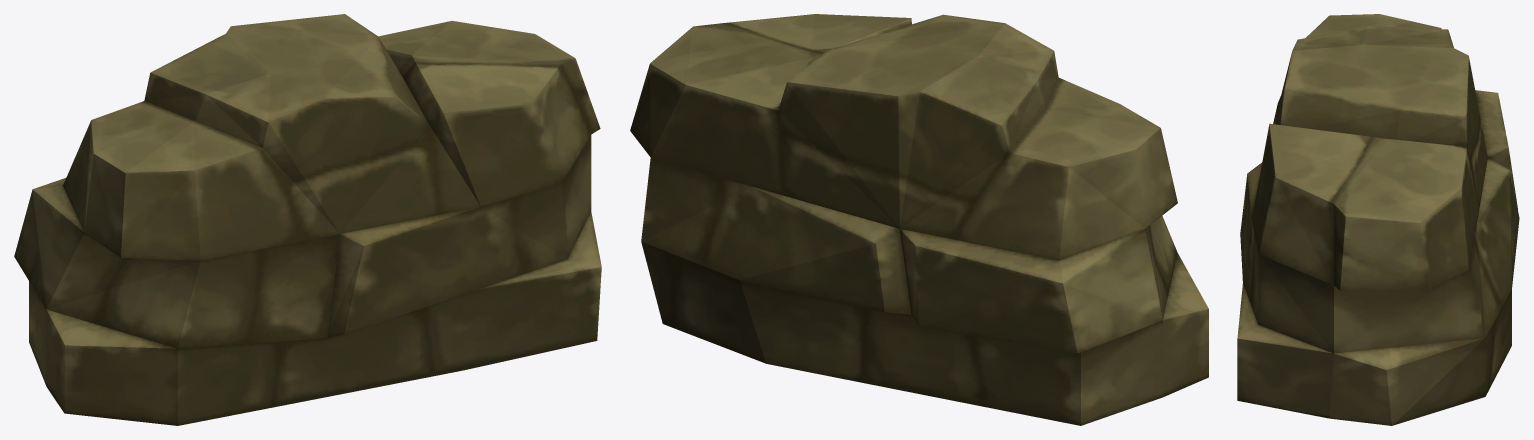
Rendered from rockwall_straight_06.fbx.
3 renders of one model, left to right at view 1: azimuth 30°, elevation 25°; view 2: azimuth 150°, elevation 25°; view 3: azimuth 270°, elevation 25°, orthographic. The views are drawn at different scales.
Visible parts, largest first — view 1: obj0.157; view 2: obj0.157; view 3: obj0.157.
Part boxes in pixels (x1,y1,x2,y2): obj0.157: (14,14,601,425); obj0.157: (630,14,1208,425); obj0.157: (1237,14,1519,425).
Size of the model in its own units: 4.72 by 2.34 by 2.44.
